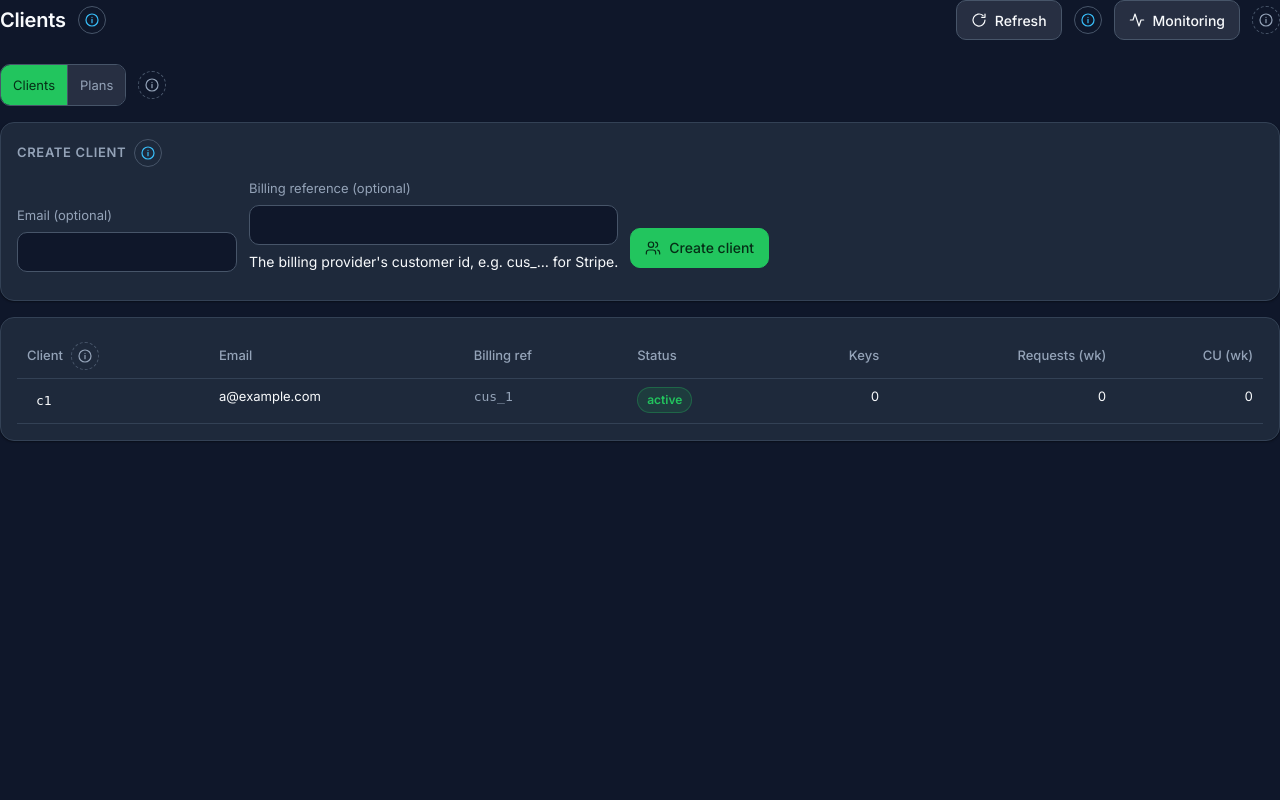
Test: plan contract › labels an inherited rate limit as the engine default, not as no limit
Expected: the text "a@example.com" is shown, [209,378,464,423]
Click the tab "Plans".
click(96, 85)  # box [67,65,125,105]
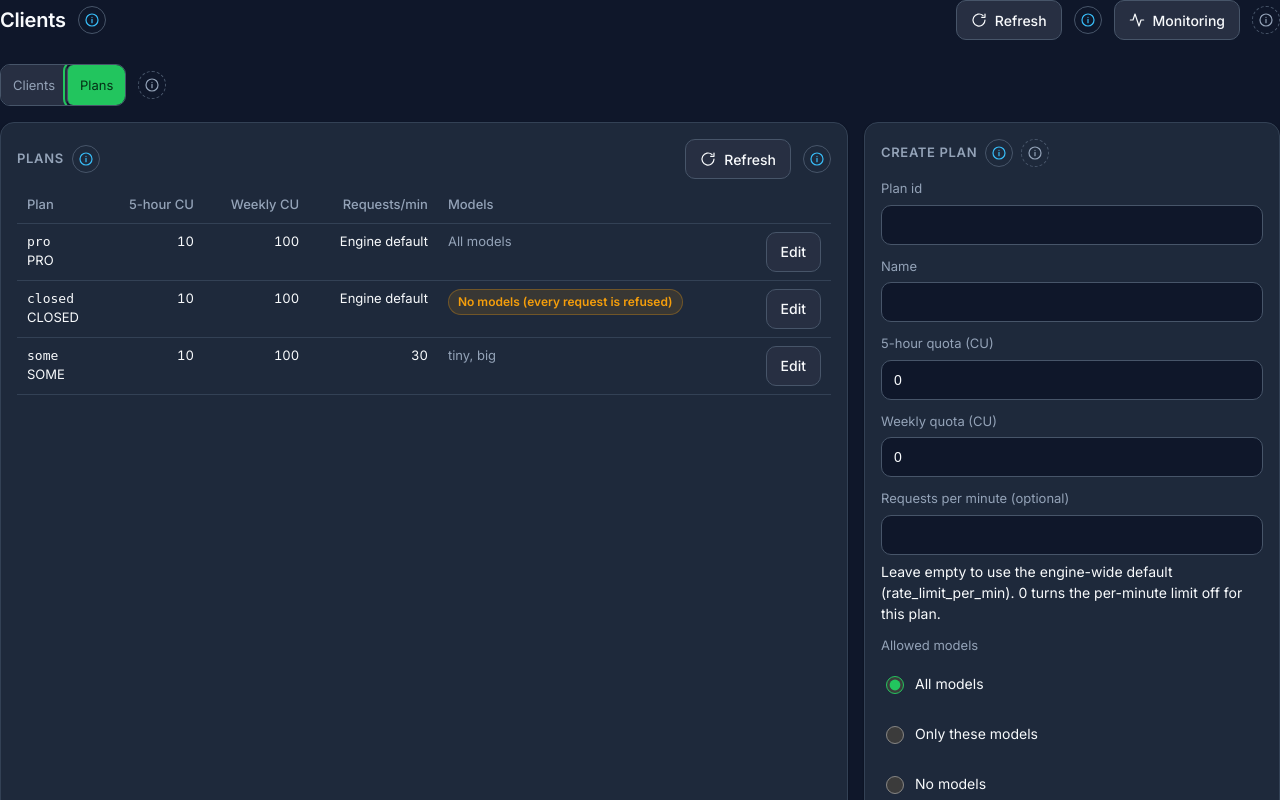
Expected: the text "pro" does not show "no limit", [17,223,831,280]
Expected: the text "pro" shows "Engine default", [340,232,428,248]
